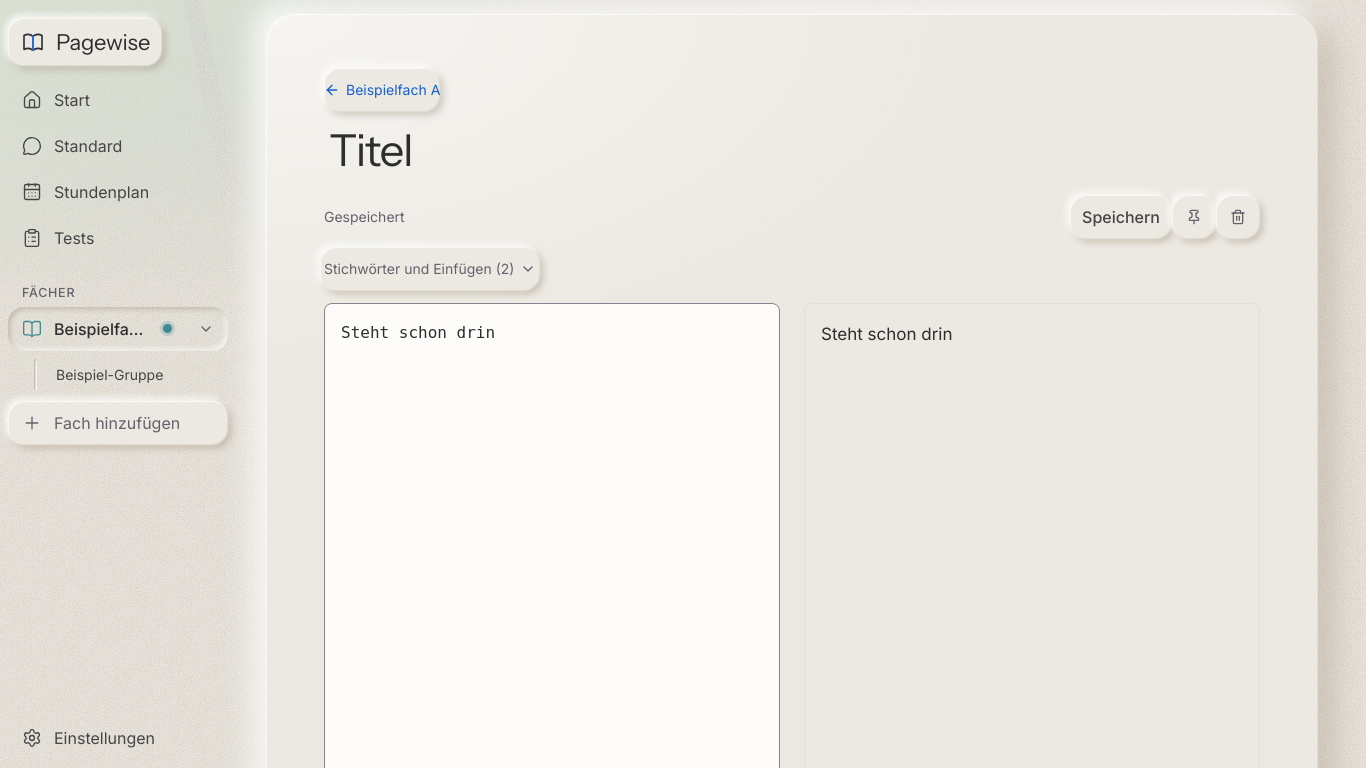
Test: Editor › klärt Stichwörter und Einfügen zusammen auf und zu, Textfeld bleibt offen (M4-T007, notes#13)
This screenshot has width=1366, height=768.
Note: Auf: beides steht offen unter dem Zusammenfang, das Attribut meldet den Zustand nativ.
Click the heading "Stichwörter und Einfügen (2)".
click(430, 269)  # box [320, 247, 540, 291]
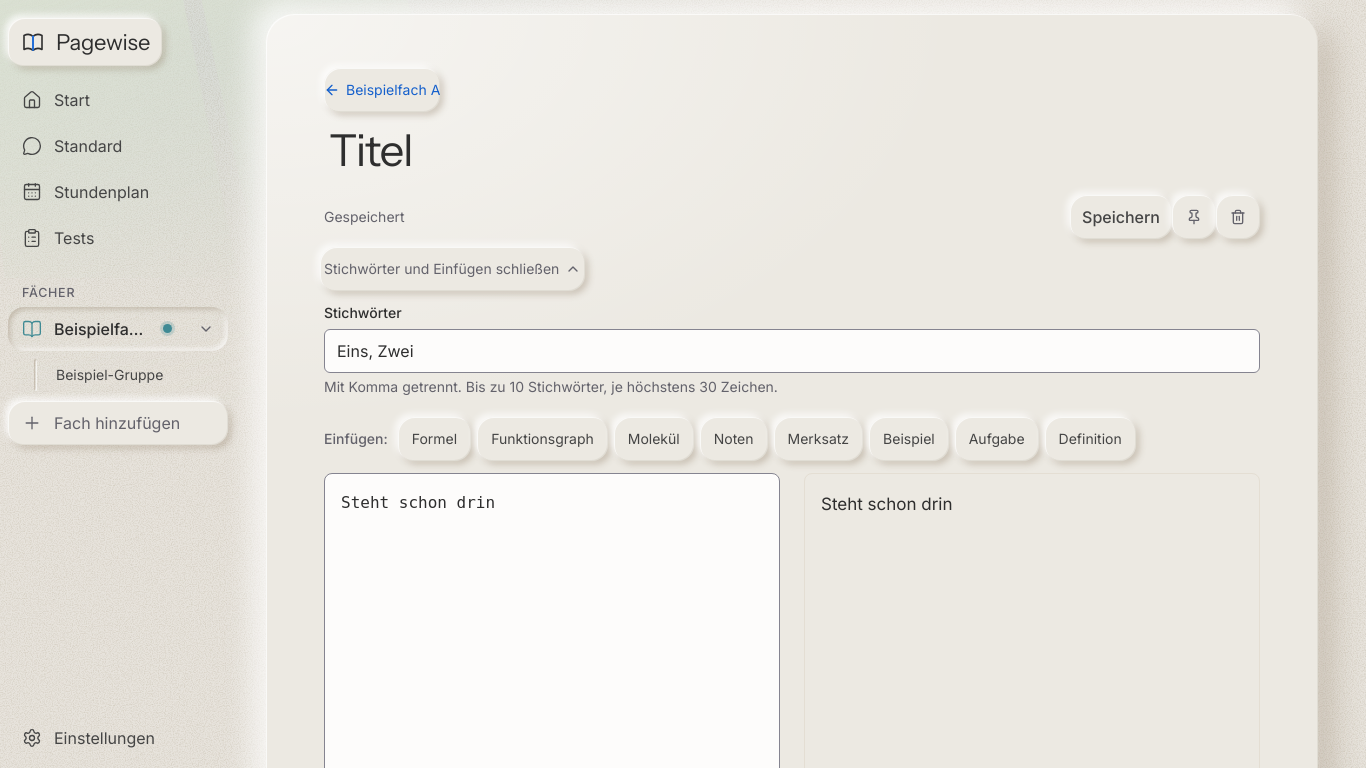
Expected: the field labelled "Stichwörter" is shown, [324, 329, 1260, 373]
Expected: the button "Formel" is shown, [398, 417, 471, 461]
Click the button "Merksatz".
click(818, 439)  # box [774, 417, 863, 461]
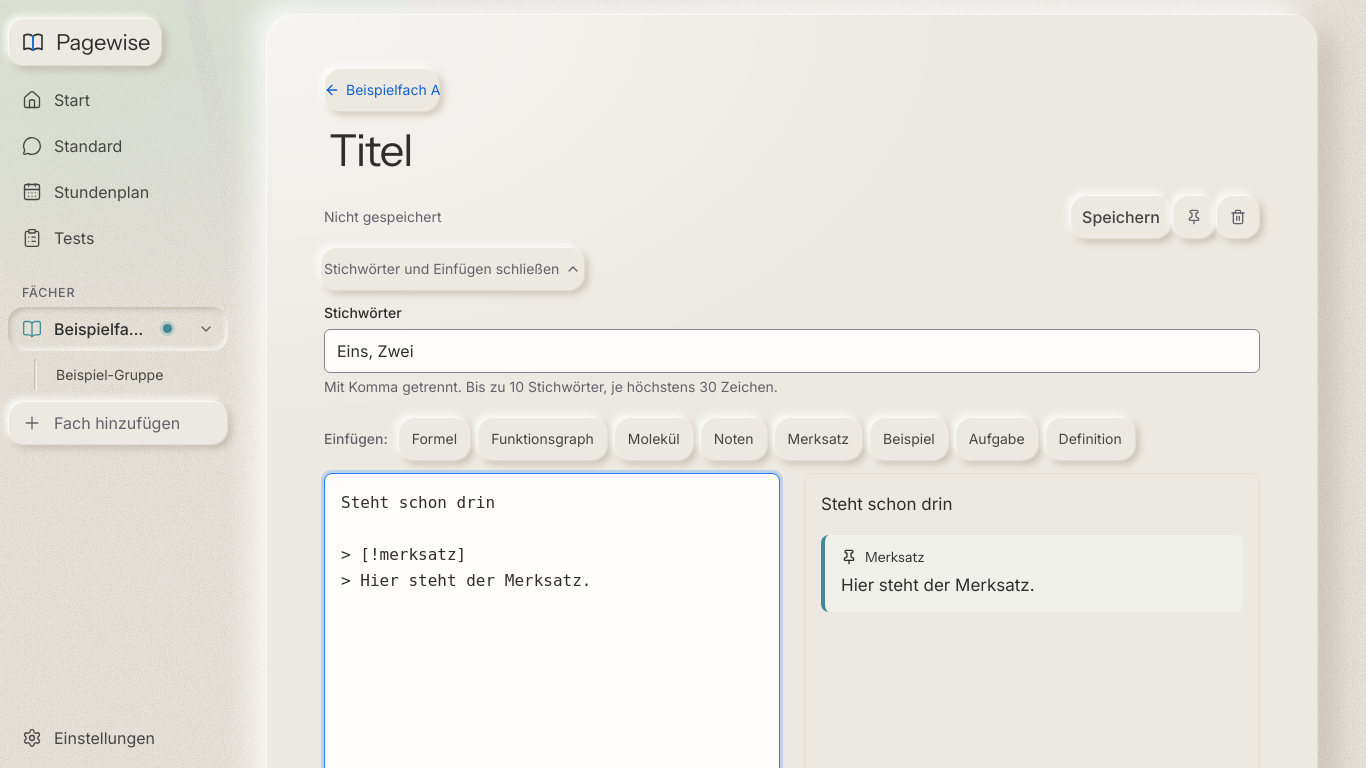
Replace the text in the field labelled "Stichwörter" with "Eins, Zwei, Drei" at [792, 351], box [324, 329, 1260, 373]
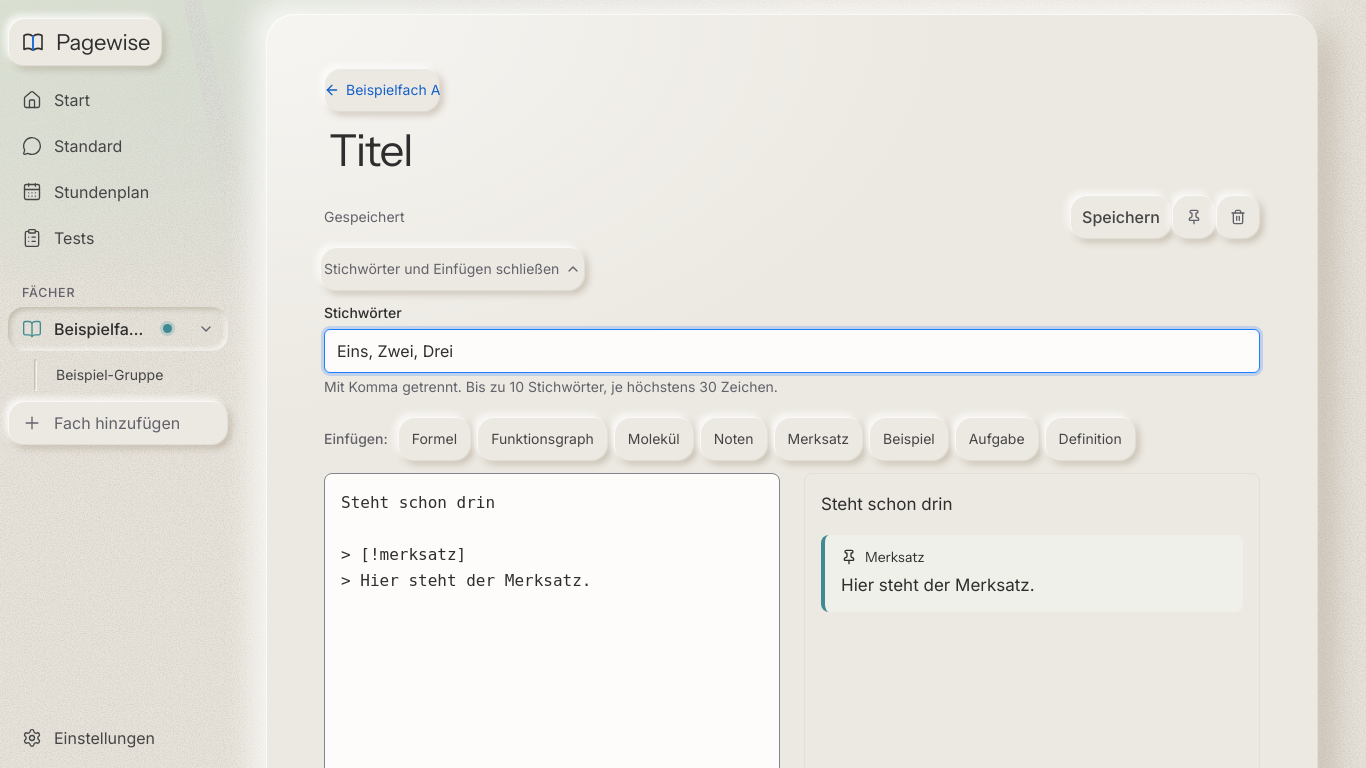
Click the heading "Stichwörter und Einfügen schließen".
click(453, 269)  # box [320, 247, 585, 291]
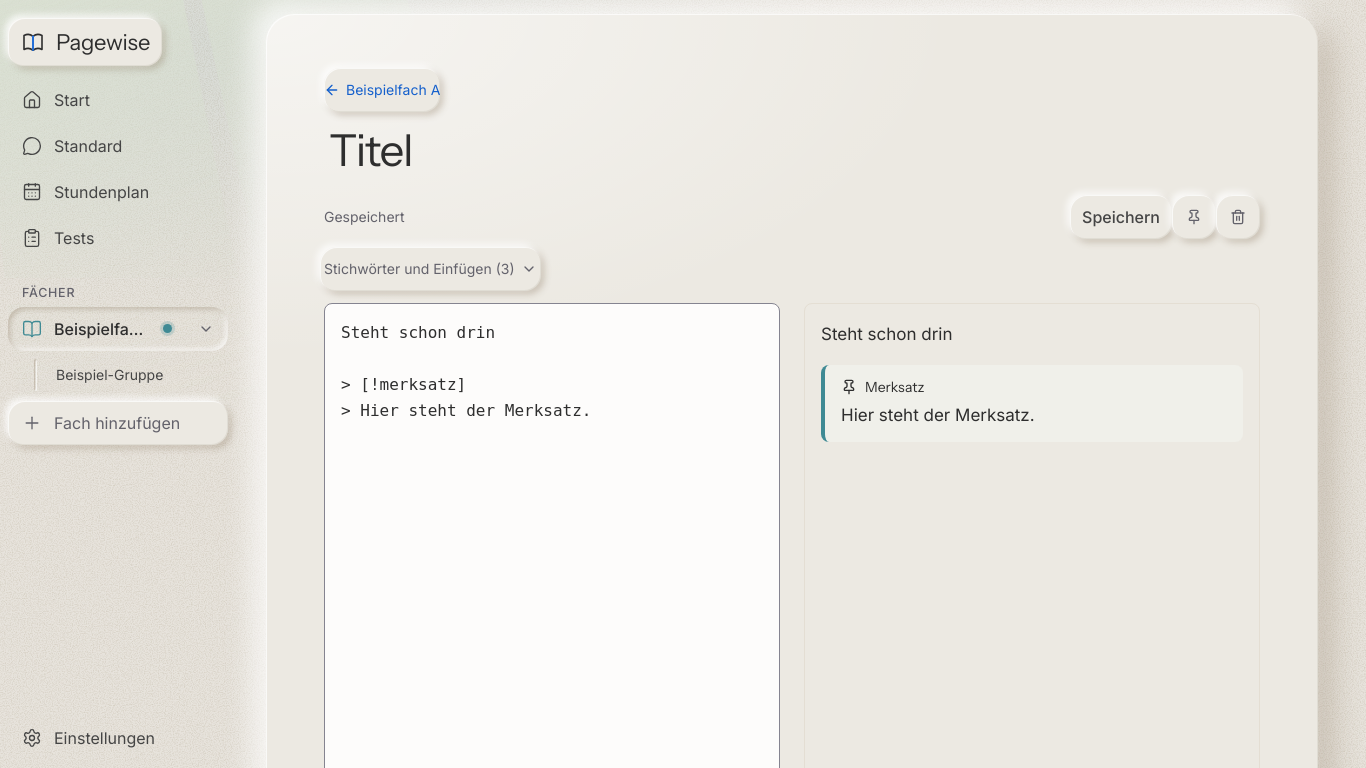
Expected: the text "Stichwörter und Einfügen (3)" is shown, [324, 259, 514, 279]
